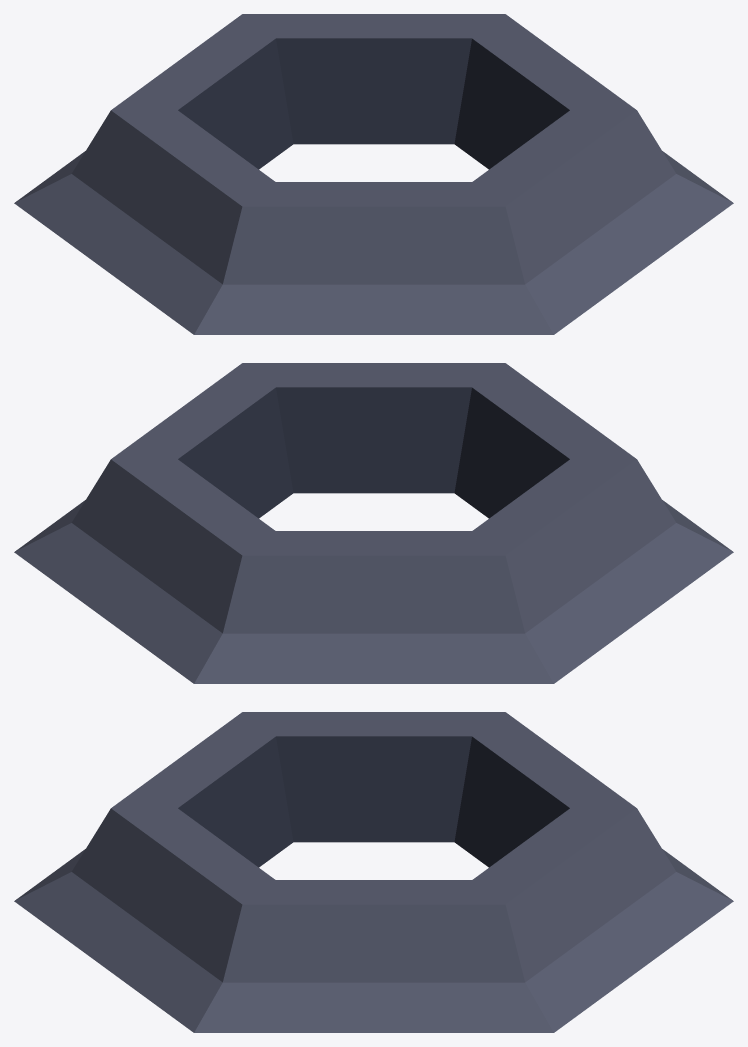
Rendered from crater.glb.
3 renders of one model, top to bottom at view 1: azimuth 30°, elevation 25°; view 2: azimuth 150°, elevation 25°; view 3: azimuth 270°, elevation 25°, orthographic.
Visible parts, largest first — view 1: crater; view 2: crater; view 3: crater.
Part boxes in pixels (bbox=[...]): crater: bbox=[14, 14, 733, 334]; crater: bbox=[14, 363, 733, 683]; crater: bbox=[14, 712, 733, 1032].
Bounding box in the file's own units: 0.715 × 0.1176 × 0.8256.
